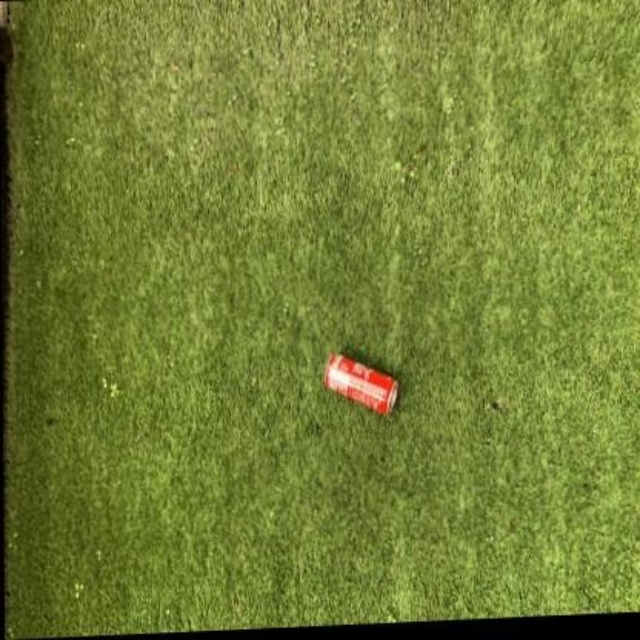trash: (325, 354, 397, 414)
